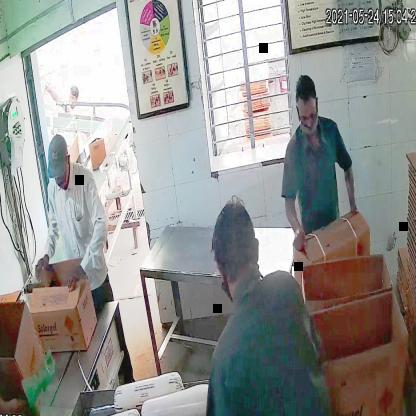goggles: (295, 102, 321, 129)
